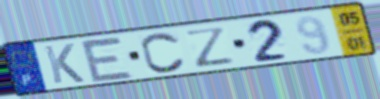2: (246, 17, 294, 66)
9: (294, 15, 332, 56)
C: (139, 31, 188, 74)
E: (77, 35, 136, 84)
K: (41, 42, 87, 86)
Z: (182, 25, 237, 69)
